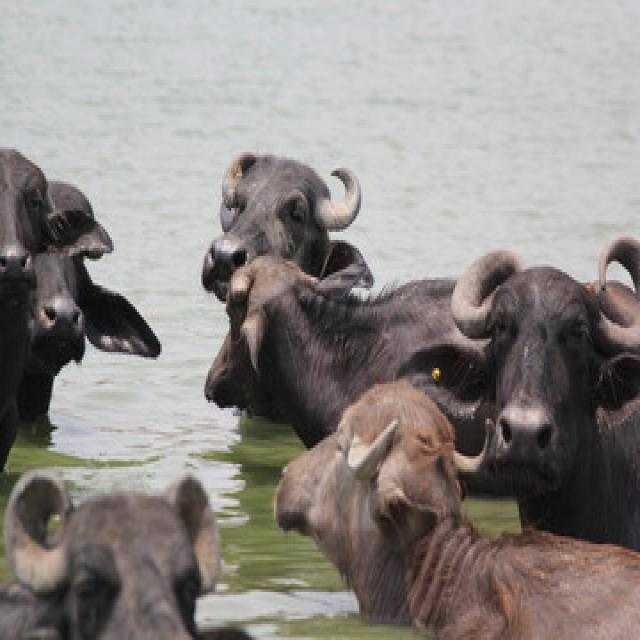Buffalo: (449, 224, 640, 499), (270, 380, 471, 615), (8, 467, 243, 635), (204, 250, 351, 416), (209, 154, 362, 292), (0, 149, 114, 268), (20, 241, 97, 368), (223, 255, 307, 339)
